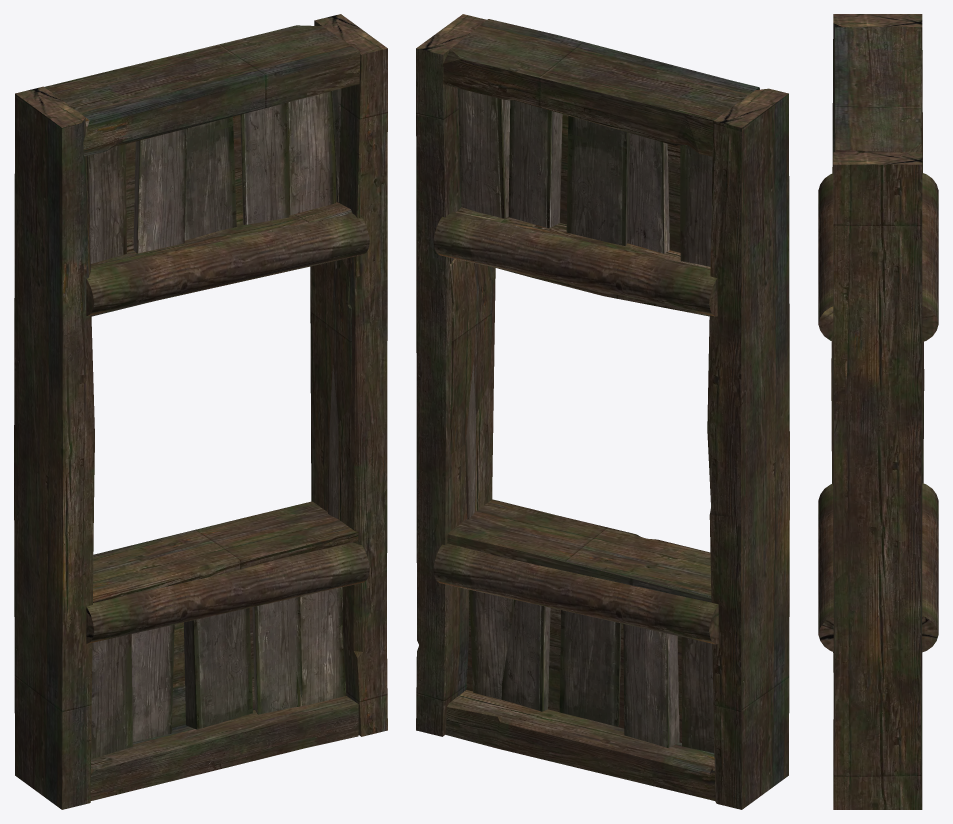
The picture shows the model from 3 angles, left to right: view 1: azimuth 30°, elevation 25°; view 2: azimuth 150°, elevation 25°; view 3: azimuth 270°, elevation 25°; orthographic projection. The views are drawn at different scales.
Parts seen in each view (by area): view 1: SM_BB_T1_Wall_Windowframe_Narrow_LOD0; view 2: SM_BB_T1_Wall_Windowframe_Narrow_LOD0; view 3: SM_BB_T1_Wall_Windowframe_Narrow_LOD0.
Part boxes in pixels (x1,y1,x2,y2): SM_BB_T1_Wall_Windowframe_Narrow_LOD0: [14, 14, 387, 809]; SM_BB_T1_Wall_Windowframe_Narrow_LOD0: [416, 14, 789, 809]; SM_BB_T1_Wall_Windowframe_Narrow_LOD0: [818, 14, 938, 809].
Size of the model in its own units: 1.5 by 3.01 by 0.5081.
2 materials, 2 textured.
